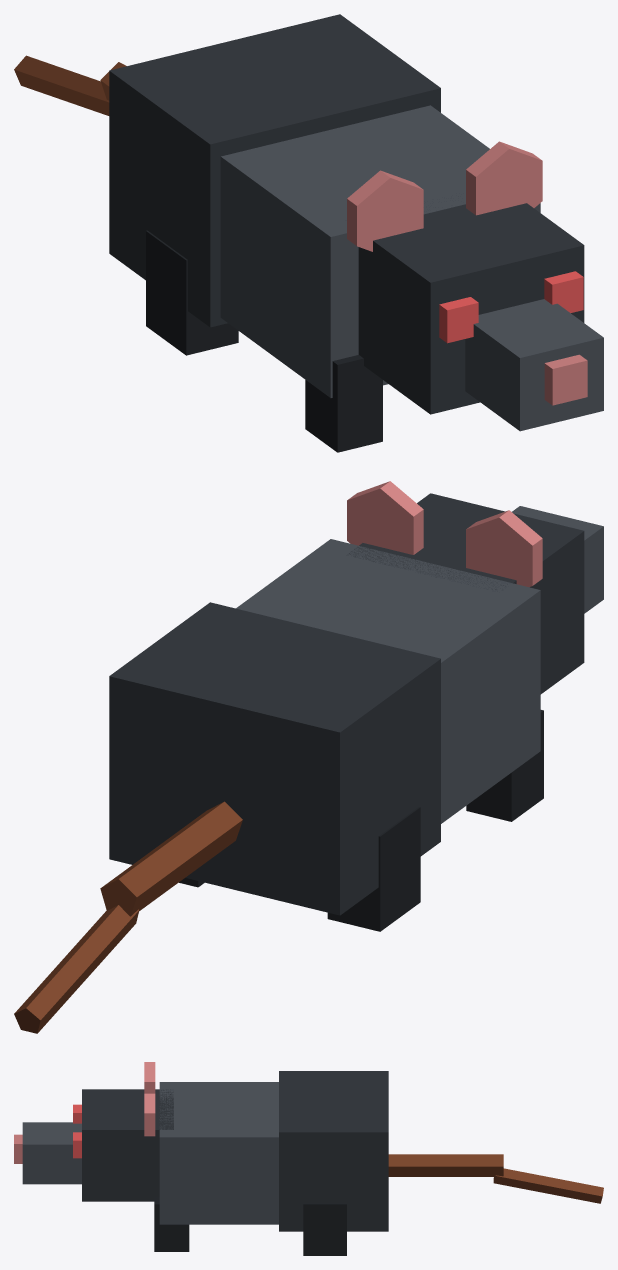
Rendered from prop_plague_rat.fbx.
The picture shows the model from 3 angles, top to bottom: view 1: azimuth 30°, elevation 25°; view 2: azimuth 150°, elevation 25°; view 3: azimuth 270°, elevation 25°; orthographic projection. The views are drawn at different scales.
Visible parts, largest first — view 1: prop_plague_rat; view 2: prop_plague_rat; view 3: prop_plague_rat.
Part boxes in pixels (box(x1,y1,x2,y2)): prop_plague_rat: box(14, 14, 603, 452); prop_plague_rat: box(14, 481, 603, 1033); prop_plague_rat: box(14, 1062, 603, 1255).
Bounding box in the file's own units: 67 × 74 × 269.
